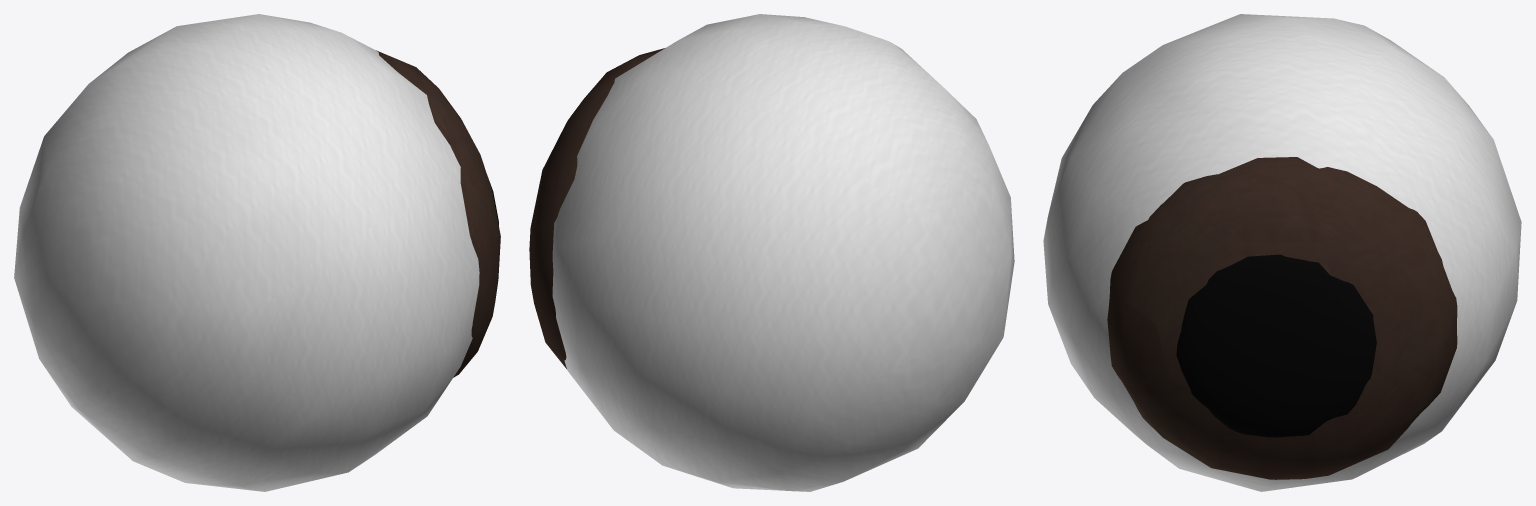
Rendered from brown eye.dae.
3 renders of one model, left to right at view 1: azimuth 30°, elevation 25°; view 2: azimuth 150°, elevation 25°; view 3: azimuth 270°, elevation 25°, orthographic.
Visible parts, largest first — view 1: Sphere_001; view 2: Sphere_001; view 3: Sphere_001.
Boxes of the visible parts, bbox=[...] form: Sphere_001: bbox=[14, 14, 500, 491]; Sphere_001: bbox=[529, 14, 1014, 491]; Sphere_001: bbox=[1043, 14, 1521, 491].
Size of the model in its own units: 0.1334 by 0.1315 by 0.1313.
Materials: 1 (1 with a texture image).
